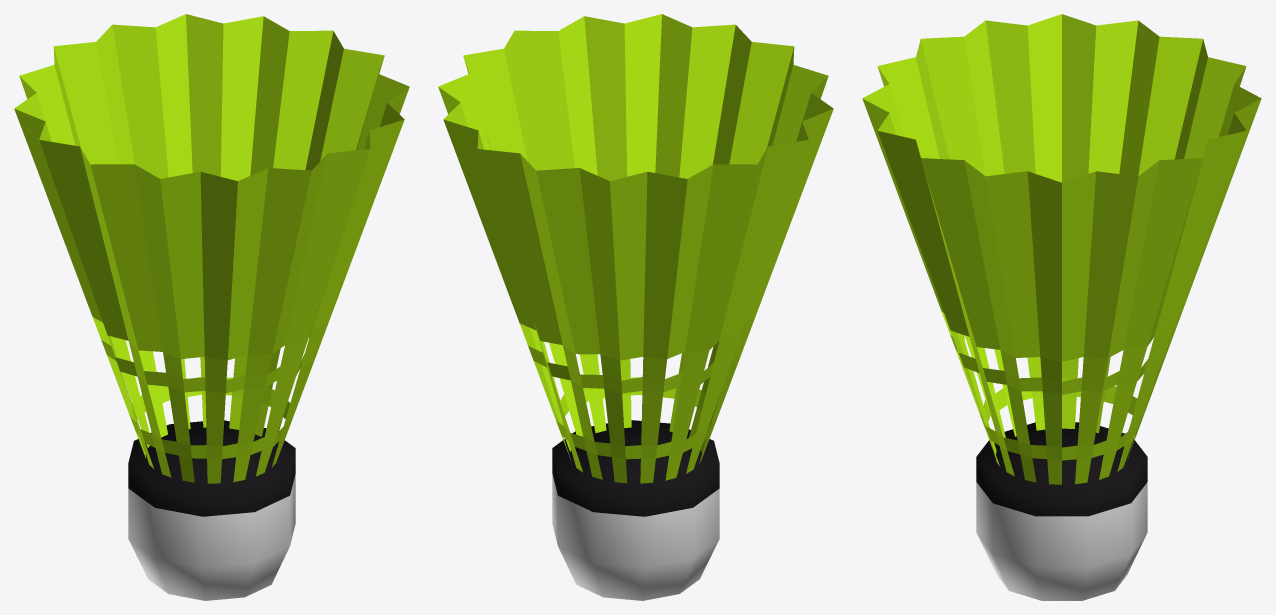
Rendered from 378911b6-578d-445c-ba49-6d1faea48408.glb.
The picture shows the model from 3 angles, left to right: view 1: azimuth 30°, elevation 25°; view 2: azimuth 150°, elevation 25°; view 3: azimuth 270°, elevation 25°; orthographic projection.
Parts seen in each view (by area): view 1: BadmintonShuttlecock; view 2: BadmintonShuttlecock; view 3: BadmintonShuttlecock.
Part boxes in pixels (box(x1,y1,x2,y2)): BadmintonShuttlecock: box(14, 14, 409, 600); BadmintonShuttlecock: box(438, 14, 833, 600); BadmintonShuttlecock: box(862, 14, 1261, 600).
Size of what is drawn, in the model's own units: 0.0584 by 0.0796 by 0.0584.
Materials: 1 (1 with a texture image).
